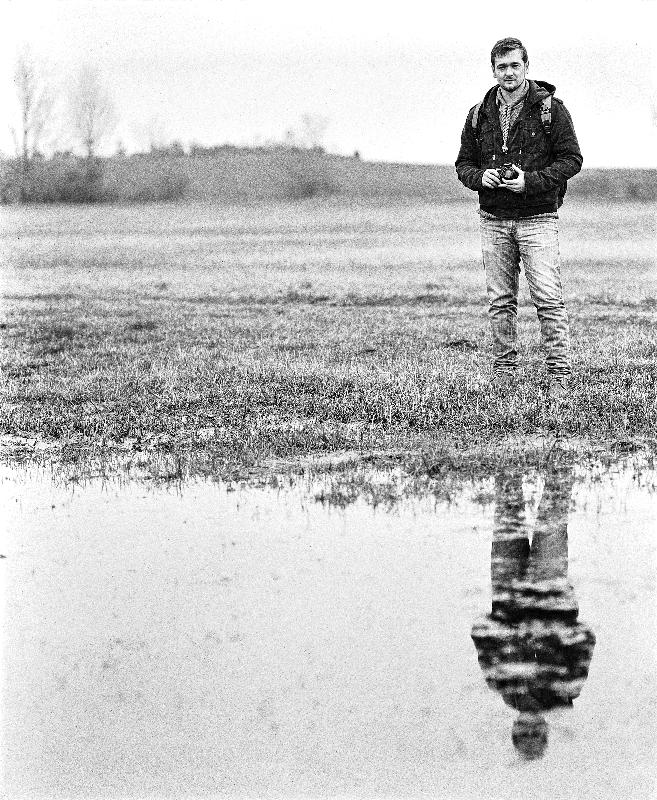Person: (454, 37, 587, 385)
